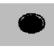correct: (16, 12, 48, 37)
